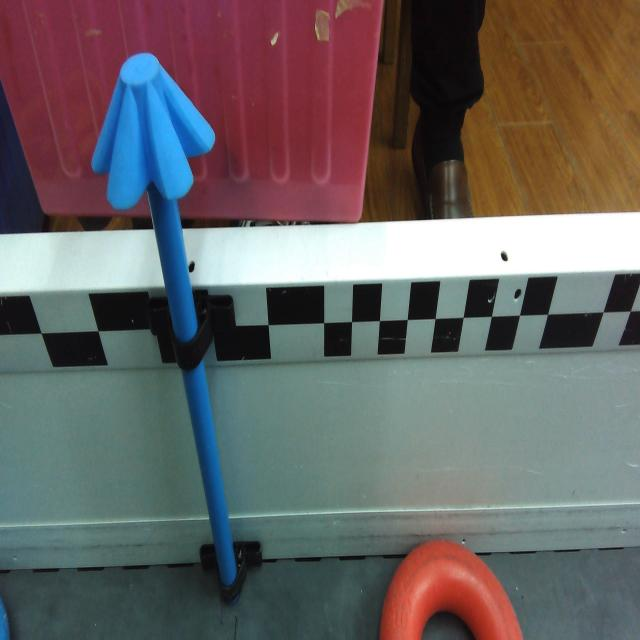Red-Ring: (371, 538, 525, 640)
zblue-Stake-Head: (90, 53, 217, 210)
